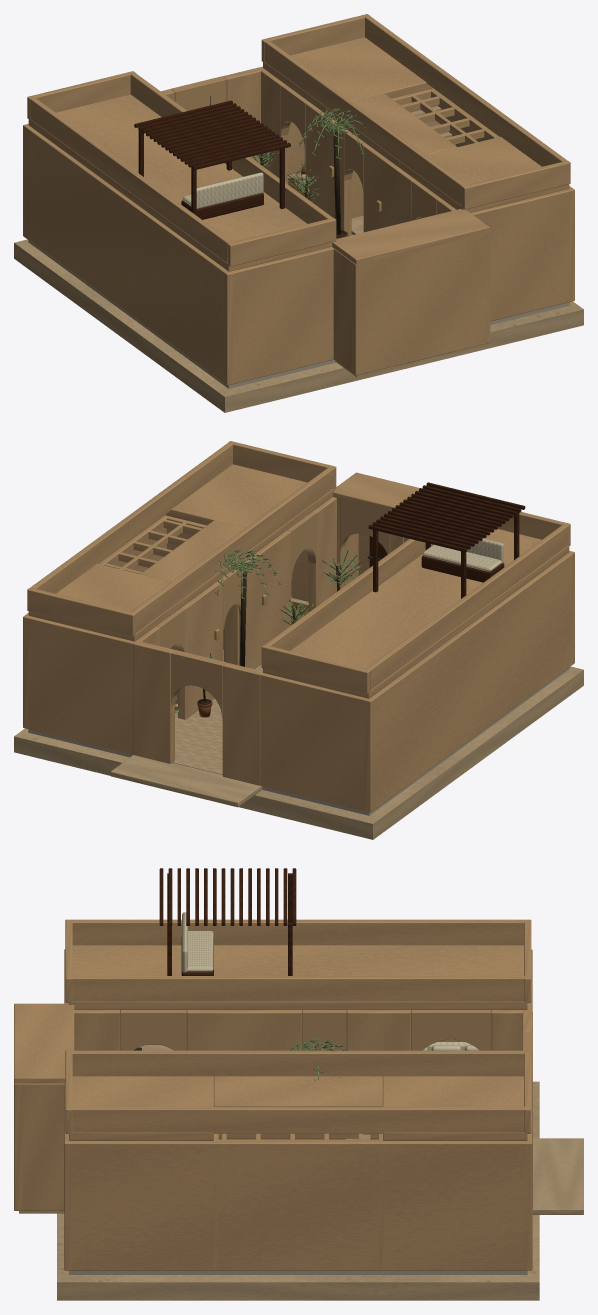
The model's file is casa-mirador.glb.
3 renders of one model, top to bottom at view 1: azimuth 30°, elevation 25°; view 2: azimuth 150°, elevation 25°; view 3: azimuth 270°, elevation 25°, orthographic. The views are drawn at different scales.
Parts seen in each view (by area): view 1: West exterior, Loggia back wall, South kitchen, Foundation, Living kitchen roof, South bedroom, Bedroom roofs north, Roof parapet, Roof parapet.002, Roof parapet.003, Loggia ceiling, Bedroom roofs south (+22 smaller); view 2: West exterior, North living, North bedroom, Living kitchen roof, Foundation, Bedroom roofs south, Roof parapet, Roof parapet.002, Roof parapet.003, Bedroom court arches pier.001, Arrival facade pier.001, Arrival facade pier (+25 smaller); view 3: East exterior, Living kitchen roof, Foundation, Roof parapet.003, Roof parapet.002, Roof parapet.001, Roof parapet, Bedroom roofs south, Bedroom roofs north, Loggia east, Service roof, Living court arches pier.001 (+20 smaller).
Part boxes in pixels (x1,y1,x2,y2): West exterior: (23,124,233,385); Loggia back wall: (352,232,490,375); South kitchen: (223,246,333,384); Foundation: (14,239,583,412); Living kitchen roof: (28,94,332,271); South bedroom: (471,189,570,321); Bedroom roofs north: (263,37,431,113); Roof parapet: (30,97,232,262); Roof parapet.002: (264,40,467,205); Roof parapet.003: (365,15,567,166); Loggia ceiling: (332,209,489,264); Bedroom roofs south: (400,136,569,212); West exterior: (364,551,574,812); North living: (258,671,373,812); North bedroom: (26,616,138,754); Living kitchen roof: (263,529,569,698); Foundation: (14,666,583,839); Bedroom roofs south: (166,464,334,540); Roof parapet: (365,524,567,689); Roof parapet.002: (130,467,333,632); Roof parapet.003: (30,442,232,593); Bedroom court arches pier.001: (239,530,291,669); Arrival facade pier.001: (133,641,174,763); Arrival facade pier: (222,662,262,785); East exterior: (64,1139,532,1270); Living kitchen roof: (69,945,527,1009); Foundation: (57,1081,539,1300); Roof parapet.003: (70,1106,526,1133); Roof parapet.002: (71,1050,524,1076); Roof parapet.001: (70,976,525,1001); Roof parapet: (70,919,526,945); Bedroom roofs south: (69,1076,213,1140); Bedroom roofs north: (383,1076,527,1140); Loggia east: (14,1083,64,1210); Service roof: (214,1076,382,1106); Living court arches pier.001: (186,1010,302,1050).
Bounding box in the file's own units: 11.8 × 6.82 × 14.17.
17 materials, 8 textured.
